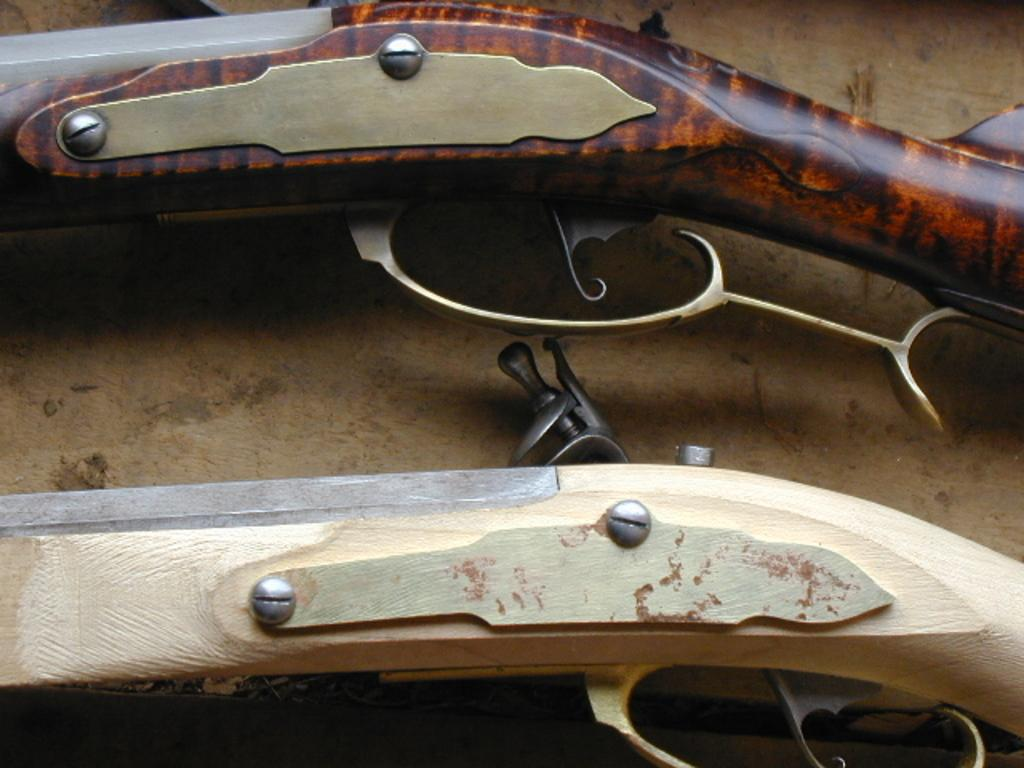Shotgun: (0, 0, 1022, 430), (0, 493, 1022, 758)
